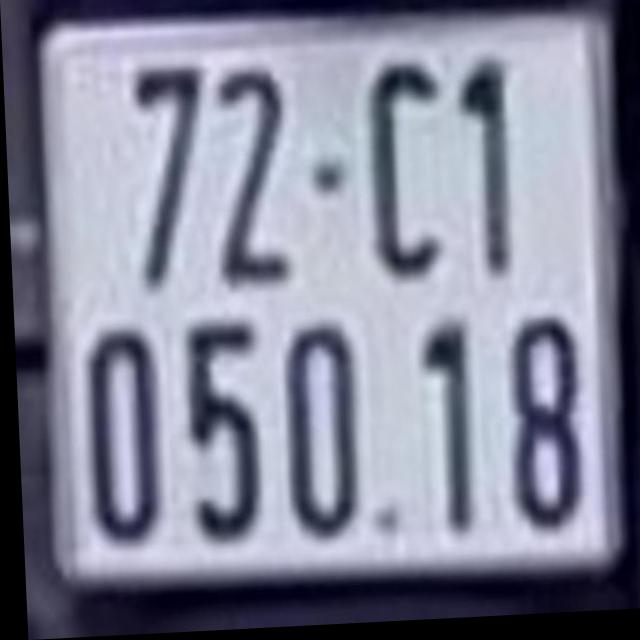0: (280, 323, 356, 542), (83, 328, 159, 546)
1: (457, 54, 513, 282), (421, 326, 472, 536)
2: (221, 66, 286, 292)
5: (181, 325, 261, 548)
7: (129, 65, 210, 285)
8: (508, 322, 580, 534)
C: (368, 62, 449, 285)
